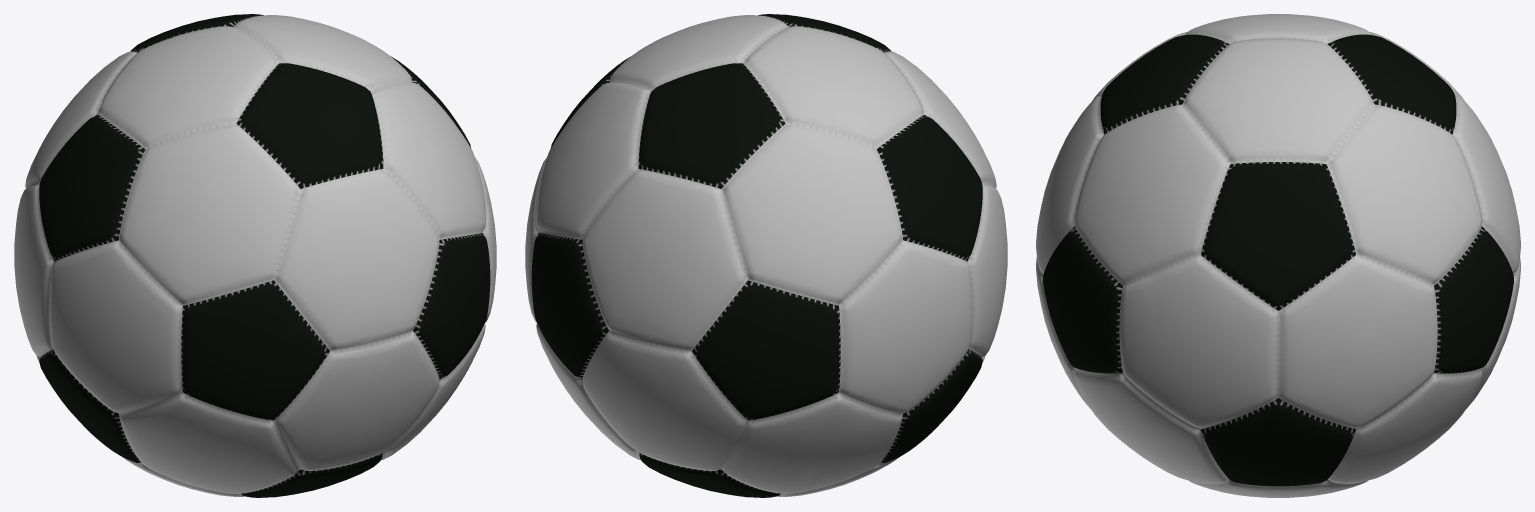
The model's file is FootBallModel.fbx.
3 views of the same model, side by side, from view 1: azimuth 30°, elevation 25°; view 2: azimuth 150°, elevation 25°; view 3: azimuth 270°, elevation 25° (orthographic).
Visible parts, largest first — view 1: node_id31; view 2: node_id31; view 3: node_id31.
Part boxes in pixels (x1,y1,x2,y2): node_id31: (14,14,496,497); node_id31: (525,14,1007,497); node_id31: (1036,14,1520,497).
Size of the model in its own units: 0.512 by 0.512 by 0.512.
Materials: 1 (1 with a texture image).
